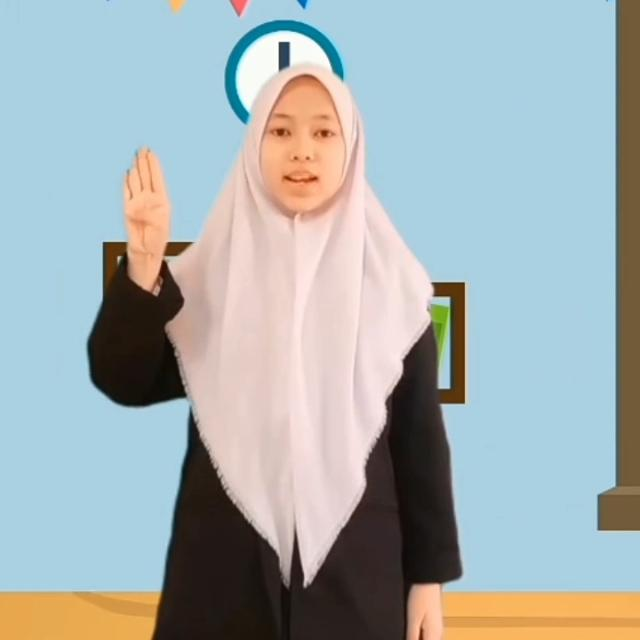B: (120, 144, 172, 262)
